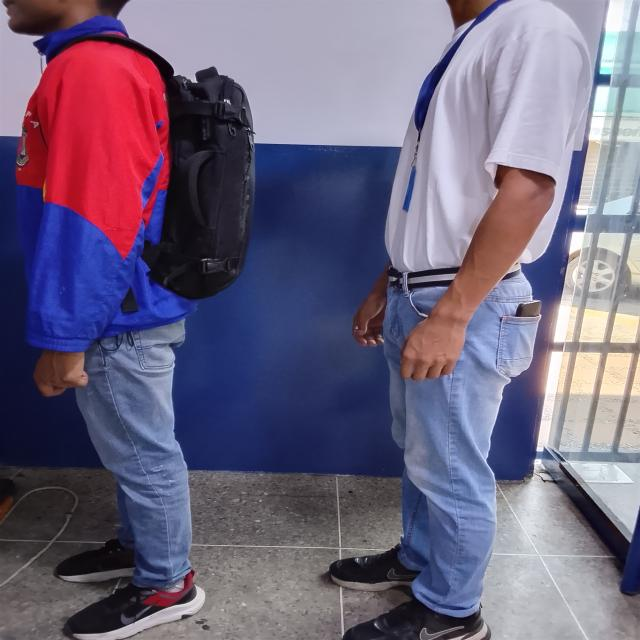carnet: (402, 166, 416, 212)
chaqueta_unefa: (14, 15, 200, 352)
